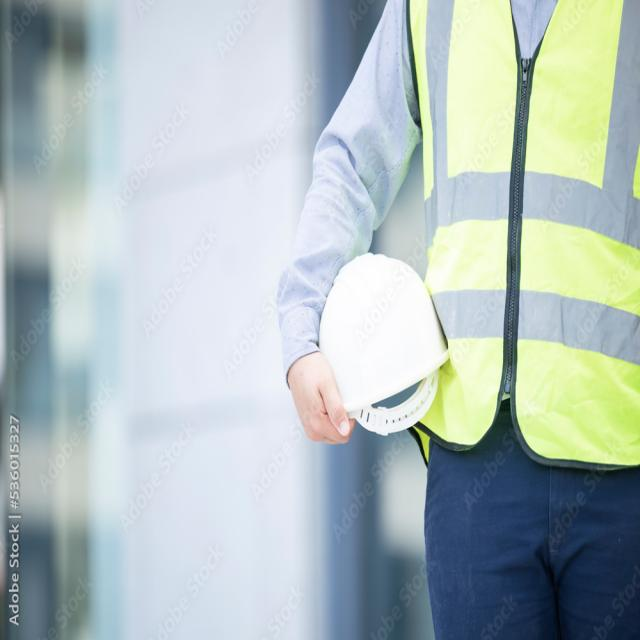helmet: (400, 0, 640, 445), (307, 240, 449, 443)
